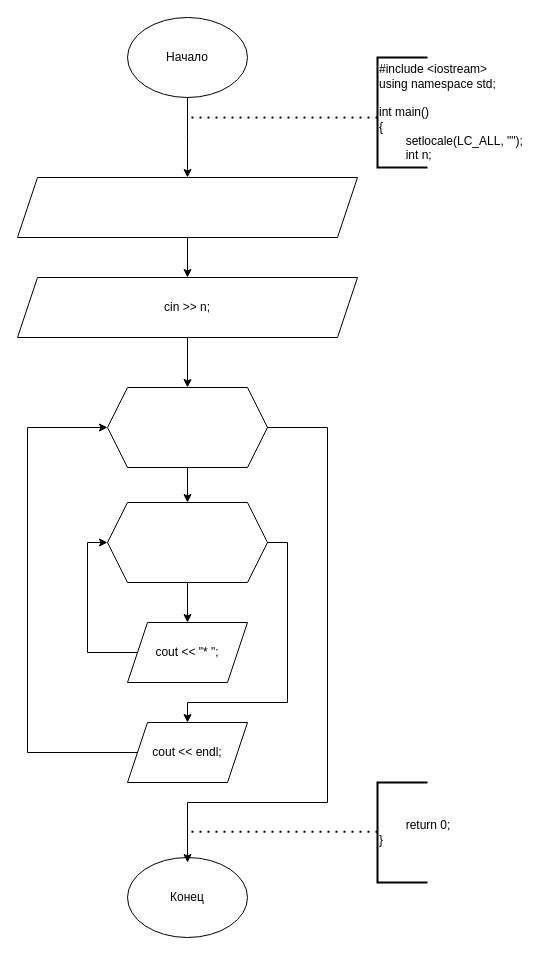
Image size: 541x955. Some labels were removed from this diagram. The centre of each missing label's shape, as x and y in pixels:
cout << "Введите натуральное число: \n";: pixel 187 207
for (int i = 0; i < n; i++): pixel 187 427
for (int j = 0; j < n; j++): pixel 187 542
